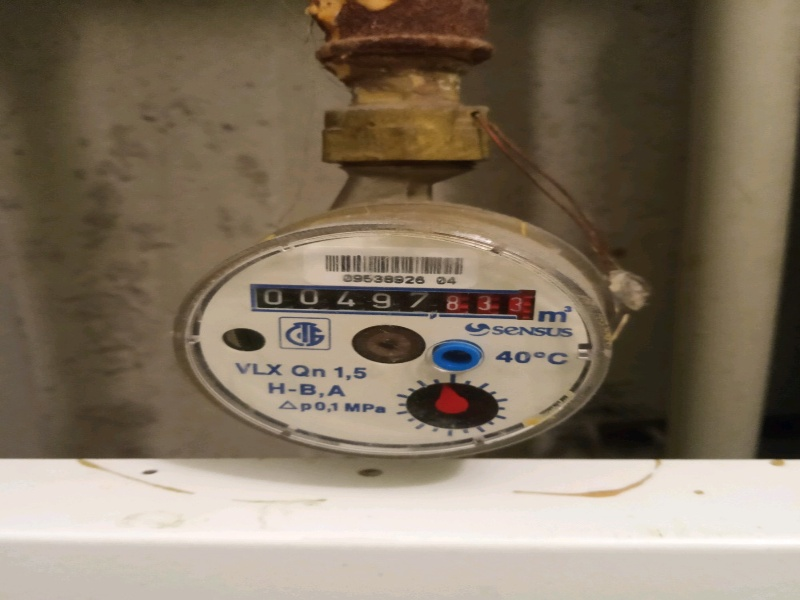meter: (250, 285, 525, 319)
